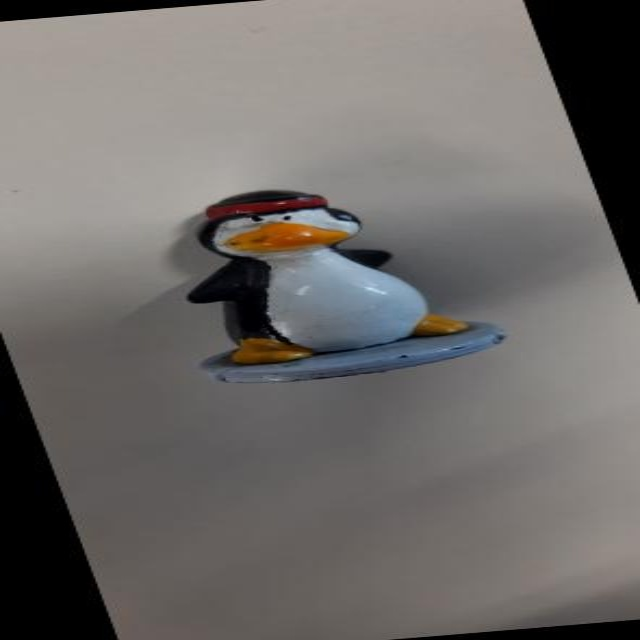Penguin: (126, 170, 523, 394)
